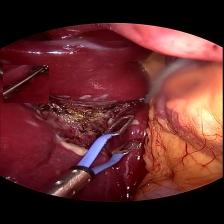Bipolar: (54, 114, 154, 200)
Grasper: (4, 64, 50, 102)
